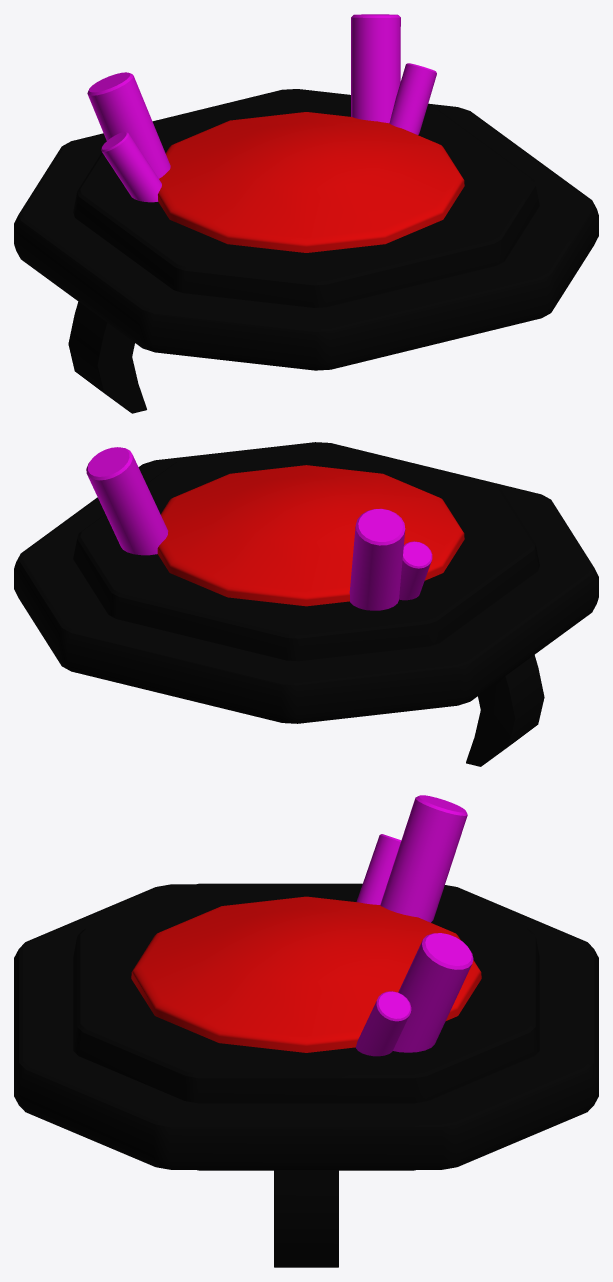
File: EliteEnemy.fbx
3 renders of one model, top to bottom at view 1: azimuth 30°, elevation 25°; view 2: azimuth 150°, elevation 25°; view 3: azimuth 270°, elevation 25°, orthographic. The views are drawn at different scales.
Parts seen in each view (by area): view 1: eliteEnemy; view 2: eliteEnemy; view 3: eliteEnemy.
Boxes of the visible parts, x1=… form: eliteEnemy: x1=14, y1=14, x2=598, y2=413; eliteEnemy: x1=14, y1=442, x2=598, y2=766; eliteEnemy: x1=14, y1=795, x2=598, y2=1267.
Size of the model in its own units: 419 by 237 by 419.
